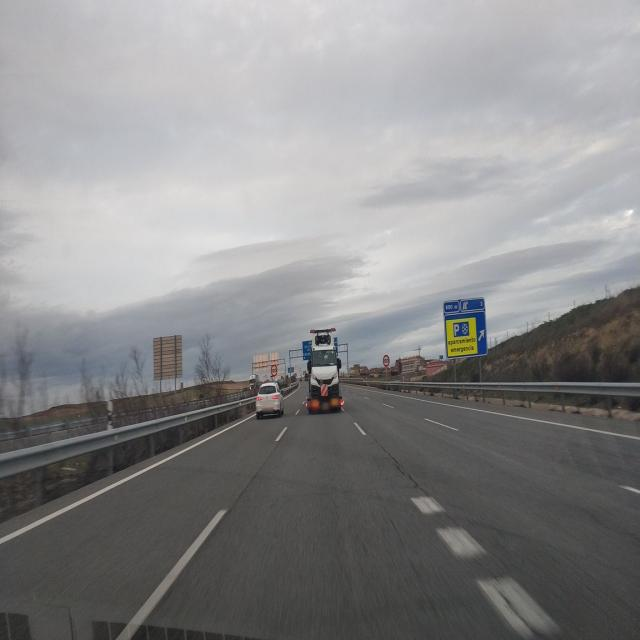car: (255, 381, 284, 419)
